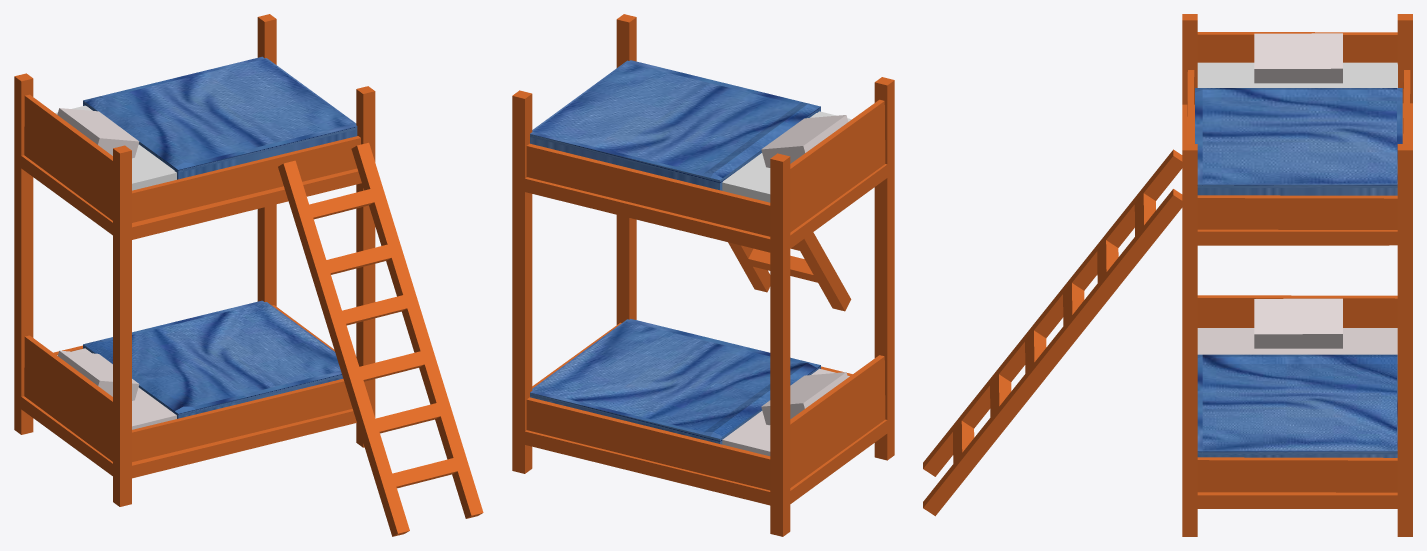
The model's file is BunkBed.glb.
3 views of the same model, side by side, from view 1: azimuth 30°, elevation 25°; view 2: azimuth 150°, elevation 25°; view 3: azimuth 270°, elevation 25° (orthographic). The views are drawn at different scales.
Parts seen in each view (by area): view 1: Cube.030, Cube.031, Cube.033, Cube.021, Cube.018, Cube, Cube.032, Cube.024, Cube.023, Cube.001, Cube.003, Cube.006 (+14 smaller); view 2: Cube.030, Cube.031, Cube.019, Cube.020, Cube.001, Cube.002, Cube.024, Cube.023, Cube, Cube.004, Cube.005, Cube.003 (+9 smaller); view 3: Cube.030, Cube.031, Cube.032, Cube.025, Cube.022, Cube.002, Cube.003, Cube.033, Cube.028, Cube.029, Cube.024, Cube.010 (+11 smaller).
Boxes of the visible parts, box(x1,y1,x2,y2) form: Cube.030: box(83, 56, 357, 179); Cube.031: box(83, 300, 343, 418); Cube.033: box(278, 160, 409, 536); Cube.021: box(132, 379, 352, 461); Cube.018: box(132, 136, 360, 222); Cube: box(113, 145, 131, 506); Cube.032: box(351, 142, 483, 518); Cube.024: box(24, 335, 112, 461); Cube.023: box(24, 94, 112, 220); Cube.001: box(14, 73, 33, 434); Cube.003: box(356, 86, 375, 447); Cube.006: box(132, 409, 356, 478); Cube.030: box(530, 60, 820, 190); Cube.031: box(530, 319, 820, 444); Cube.019: box(526, 143, 770, 236); Cube.020: box(526, 397, 770, 490); Cube.001: box(770, 153, 790, 536); Cube.002: box(512, 90, 532, 473); Cube.024: box(790, 355, 885, 487); Cube.023: box(790, 99, 885, 232); Cube: box(874, 77, 894, 460); Cube.004: box(518, 177, 777, 253); Cube.005: box(519, 430, 777, 507); Cube.003: box(616, 14, 636, 324); Cube.030: box(1195, 88, 1402, 195); Cube.031: box(1197, 354, 1397, 457); Cube.032: box(923, 189, 1182, 516); Cube.025: box(1197, 457, 1397, 492); Cube.022: box(1197, 195, 1397, 229); Cube.002: box(1397, 144, 1412, 536); Cube.003: box(1182, 144, 1197, 536); Cube.033: box(923, 149, 1182, 476); Cube.028: box(1254, 33, 1342, 83); Cube.029: box(1254, 298, 1342, 348); Cube.024: box(1197, 295, 1397, 327); Cube.010: box(1184, 492, 1409, 508).
Size of the model in its own units: 10.54 by 13.95 by 16.01.
Materials: 3 (1 with a texture image).
